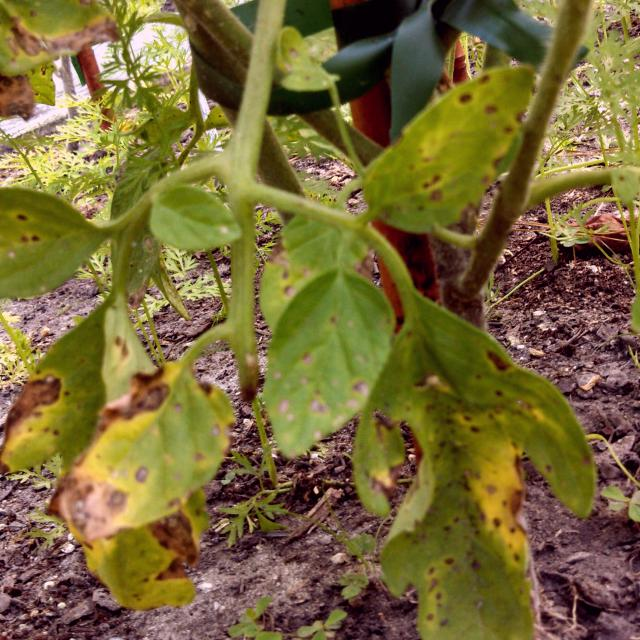Tomato Septoria leaf spot: (330, 291, 602, 640), (74, 314, 246, 544), (354, 61, 549, 247), (249, 253, 401, 467), (0, 289, 144, 500), (0, 174, 98, 304), (613, 186, 640, 529)
